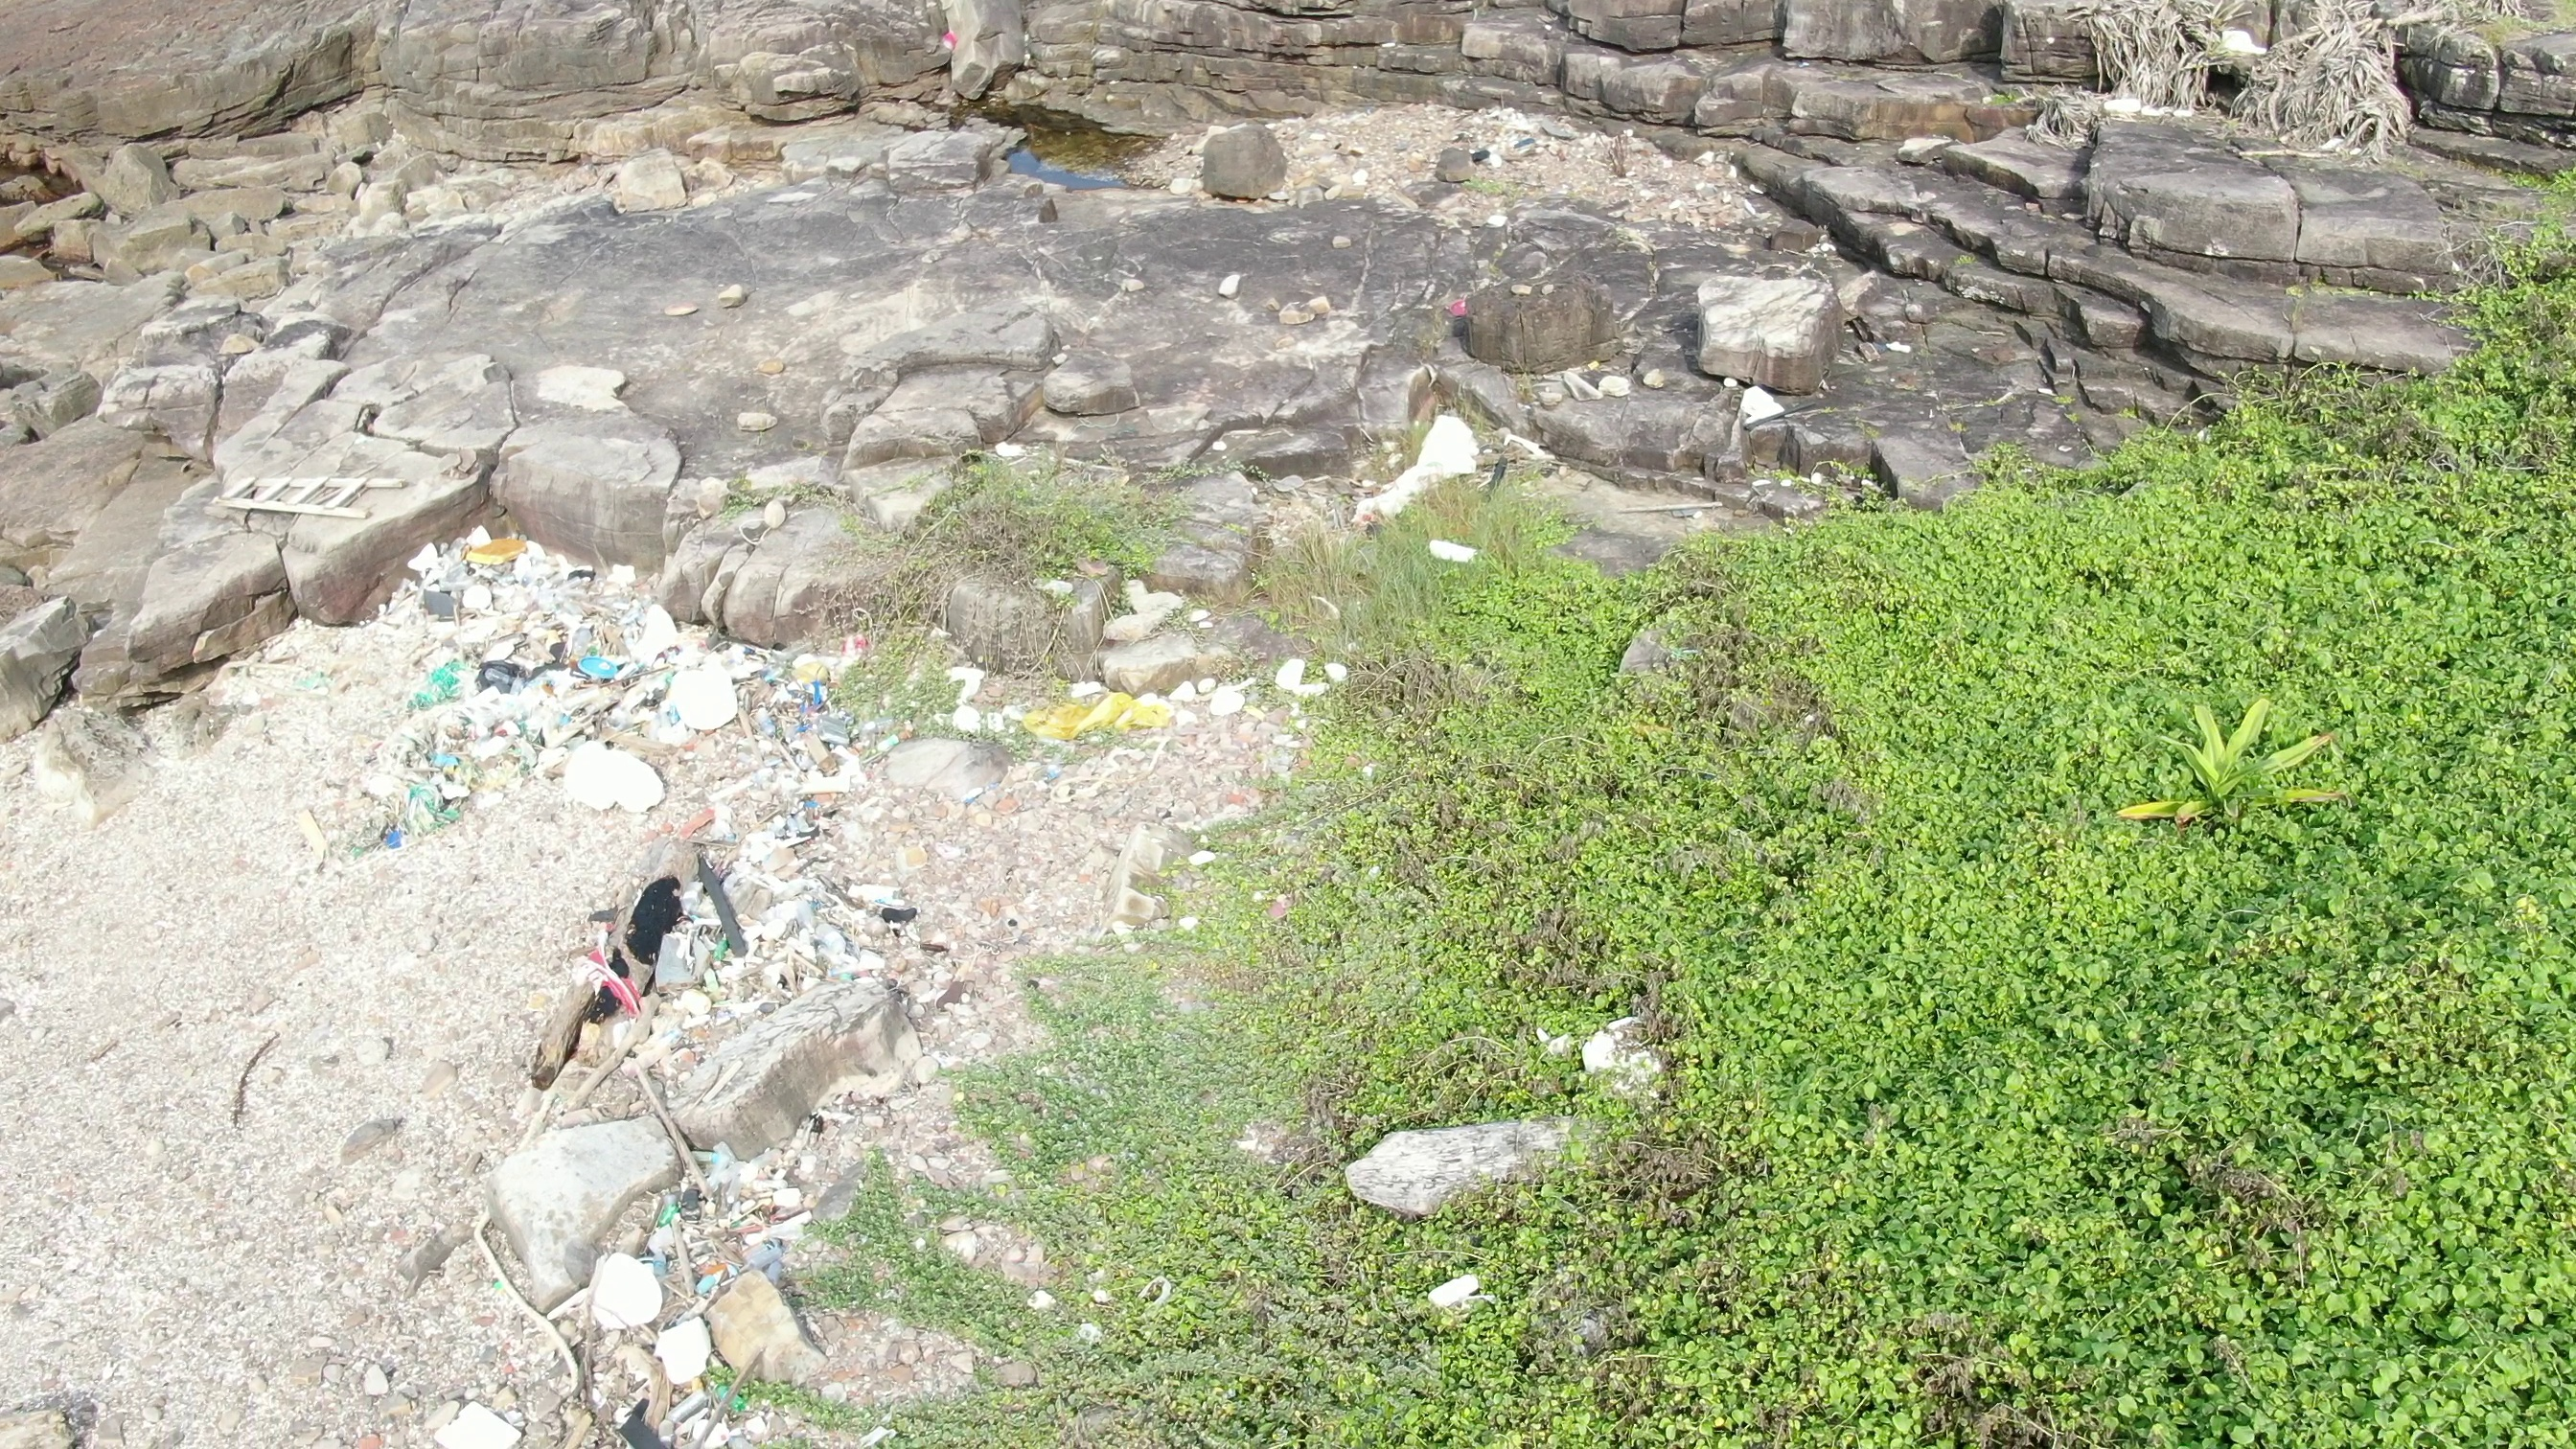garbage: (495, 809, 955, 1449), (333, 524, 886, 853), (989, 653, 1228, 773), (1338, 396, 1525, 533), (1417, 97, 1619, 180), (202, 456, 407, 534), (1430, 531, 1483, 573), (918, 30, 966, 73), (1447, 295, 1476, 329)
